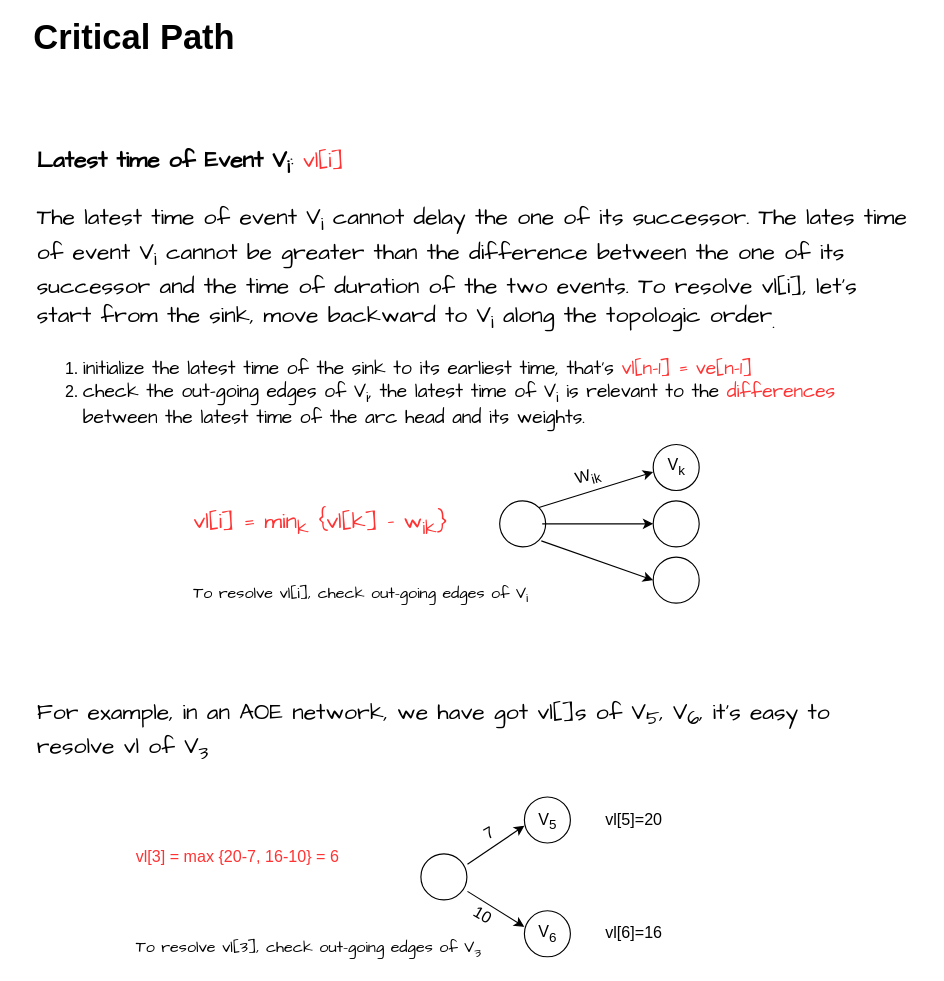
The diagram is 944 pixels wide and 981 high, and some of its shapes have lost their labels. The centre of each missing label's shape, as x and y in pixels:
V 3: point (443, 876)
V i: point (522, 523)
